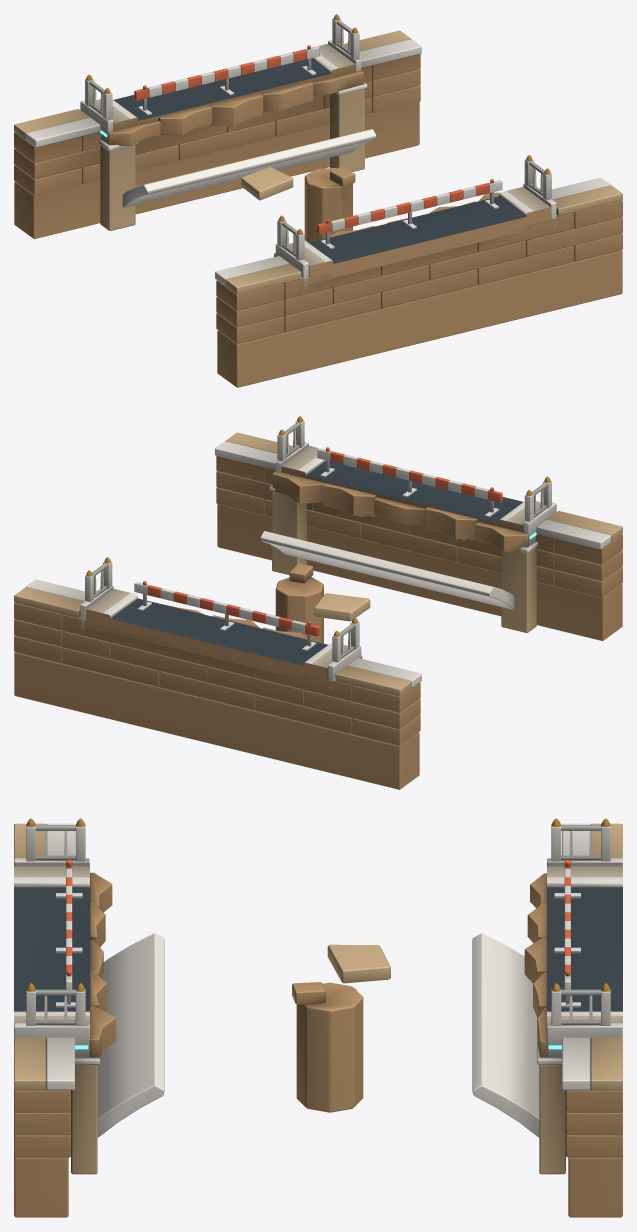
The model's file is bridge_stub.fbx.
The picture shows the model from 3 angles, top to bottom: view 1: azimuth 30°, elevation 25°; view 2: azimuth 150°, elevation 25°; view 3: azimuth 270°, elevation 25°; orthographic projection. The views are drawn at different scales.
Visible parts, largest first — view 1: bridge_stub; view 2: bridge_stub; view 3: bridge_stub.
Boxes of the visible parts, x1,y1,x2,y2 form: bridge_stub: [14, 14, 622, 387]; bridge_stub: [14, 416, 622, 789]; bridge_stub: [14, 818, 622, 1217].
Size of the model in its own units: 16 by 5.48 by 16.
